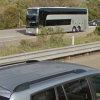Bus: (22, 3, 94, 39)
